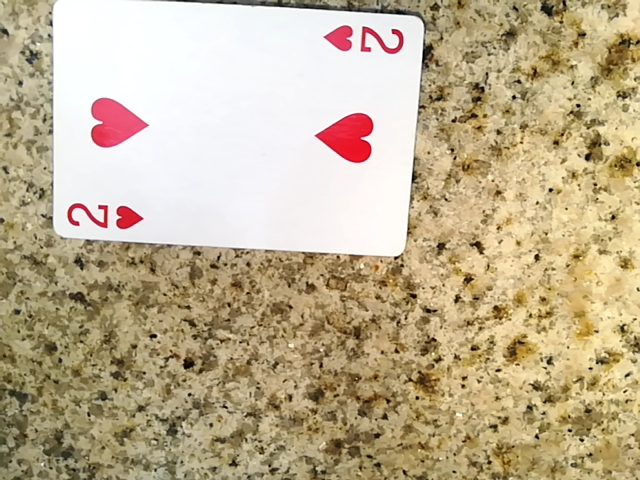hx 2: (48, 1, 417, 261)
